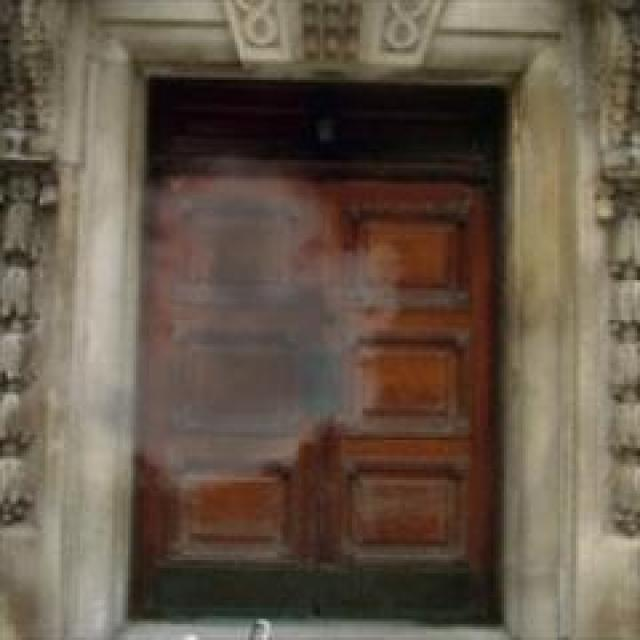Smoke: (30, 130, 408, 495)
